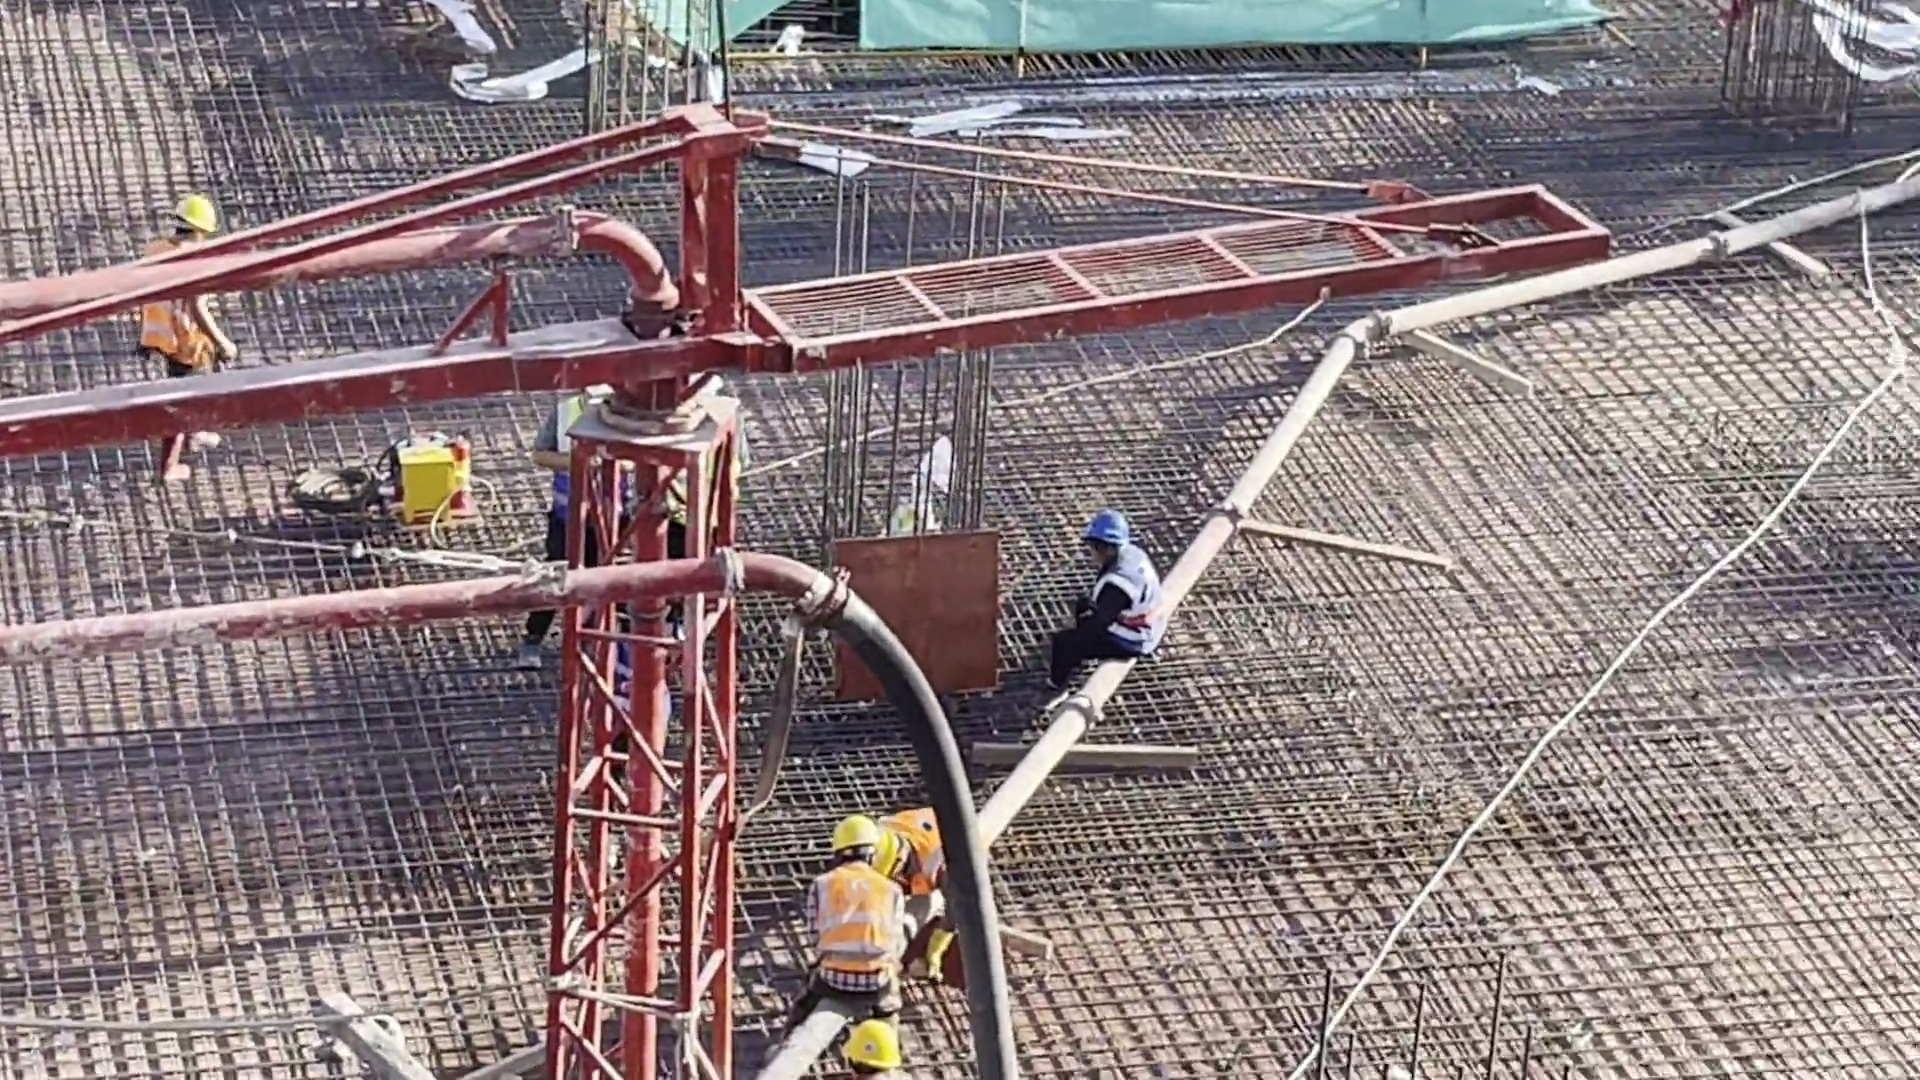helmet: (164, 196, 227, 237), (845, 1023, 904, 1067), (1085, 511, 1139, 549), (824, 817, 880, 850), (873, 829, 901, 879)
person: (129, 187, 244, 500), (788, 811, 917, 1019), (526, 379, 612, 664), (1044, 516, 1158, 697), (851, 800, 948, 930), (823, 1012, 913, 1080)
vest: (129, 247, 221, 369), (821, 873, 897, 993), (1100, 557, 1160, 641), (550, 397, 590, 511), (896, 806, 949, 873)
